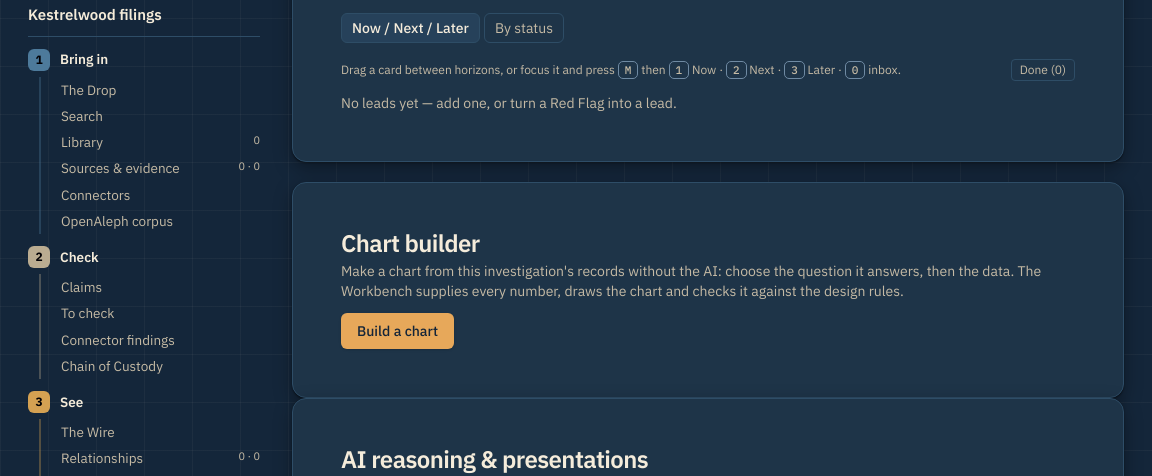
Scenario: Home chart builder › is on the page, asks for nothing until opened, then loads this investigation's chart catalogue
(page scrolled)
Expected: the heading "Chart builder" is shown, [341,227,480,259]
Click the button "Build a chart".
click(398, 331)  # box [341,313,454,349]
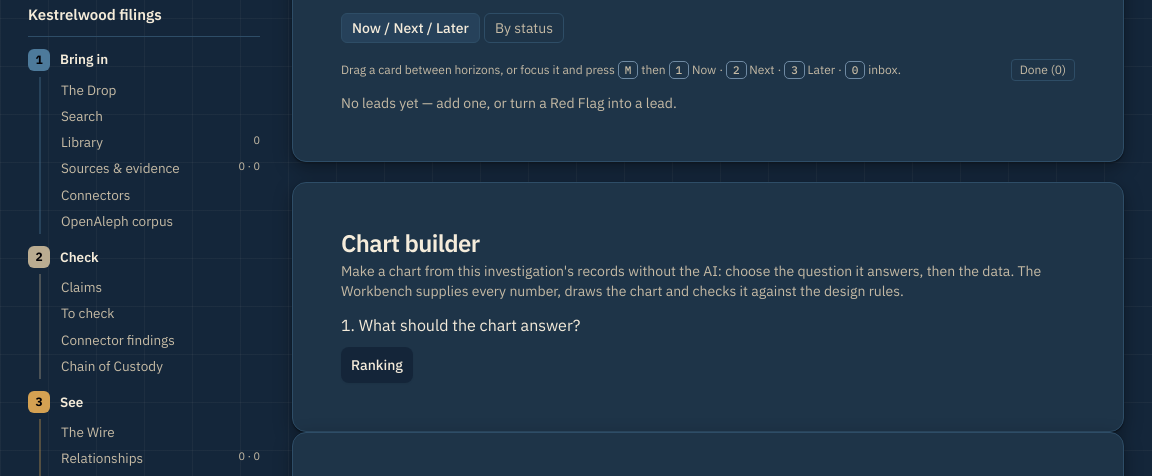
Expected: the button "Ranking" is shown, [341,347,413,383]
